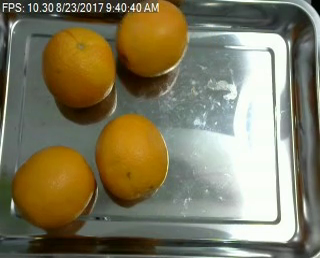Orange: (10, 144, 98, 227), (95, 114, 168, 202), (41, 26, 114, 107), (113, 1, 188, 78)
